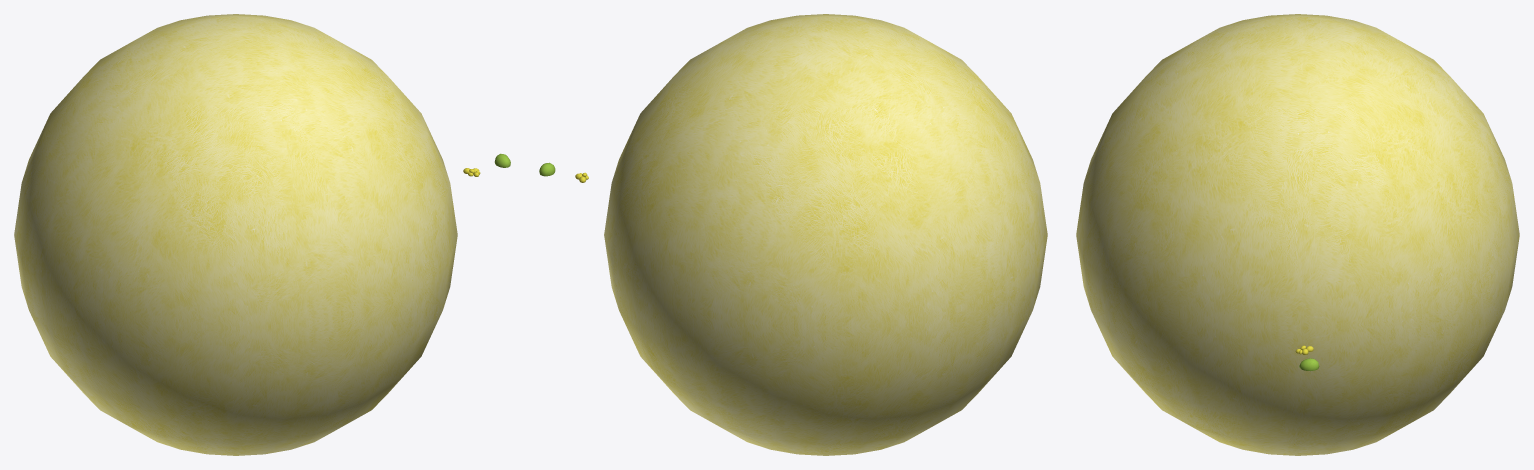
File: fbx_meadow_planet.FBX
The picture shows the model from 3 angles, left to right: view 1: azimuth 30°, elevation 25°; view 2: azimuth 150°, elevation 25°; view 3: azimuth 270°, elevation 25°; orthographic projection.
Visible parts, largest first — view 1: meadow_planet; view 2: meadow_planet; view 3: meadow_planet.
Boxes of the visible parts, bbox=[...] form: meadow_planet: bbox=[14, 14, 457, 455]; meadow_planet: bbox=[604, 14, 1047, 455]; meadow_planet: bbox=[1076, 14, 1519, 455].
Size of the model in its own units: 491 by 400 by 400.
